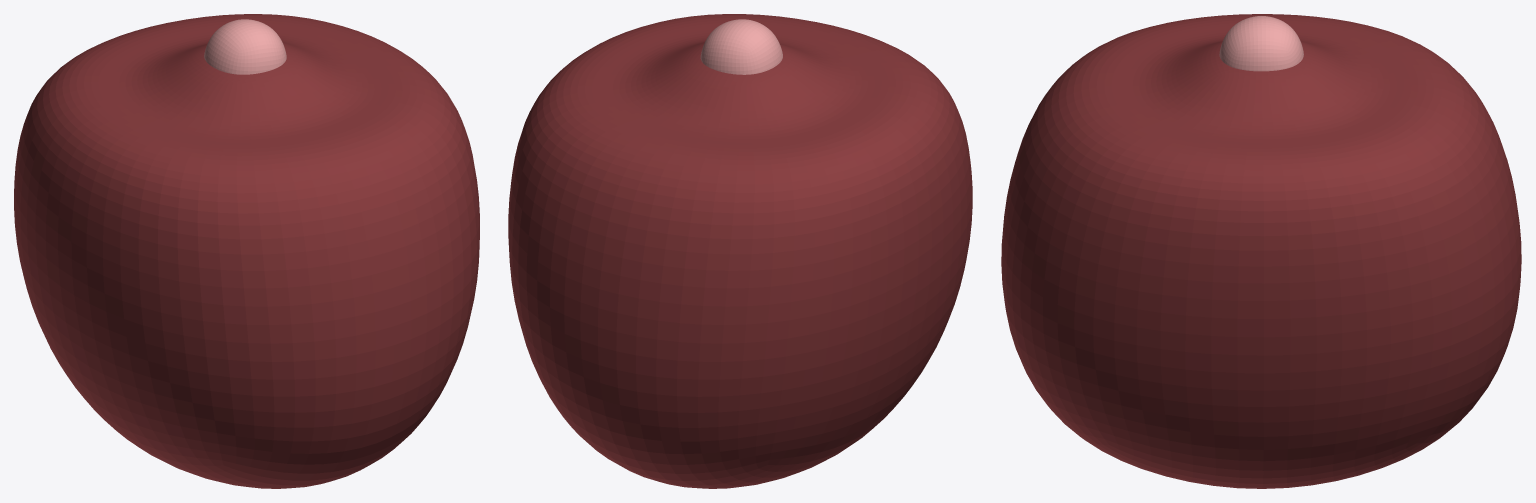
File: corozo.fbx
The picture shows the model from 3 angles, left to right: view 1: azimuth 30°, elevation 25°; view 2: azimuth 150°, elevation 25°; view 3: azimuth 270°, elevation 25°; orthographic projection. The views are drawn at different scales.
Visible parts, largest first — view 1: Cube.039; view 2: Cube.039; view 3: Cube.039.
Boxes of the visible parts, <box> form: Cube.039: <box>14,14,479,488</box>; Cube.039: <box>508,14,972,488</box>; Cube.039: <box>1001,14,1521,488</box>.
Size of the model in its own units: 90.52 by 98.99 by 104.
